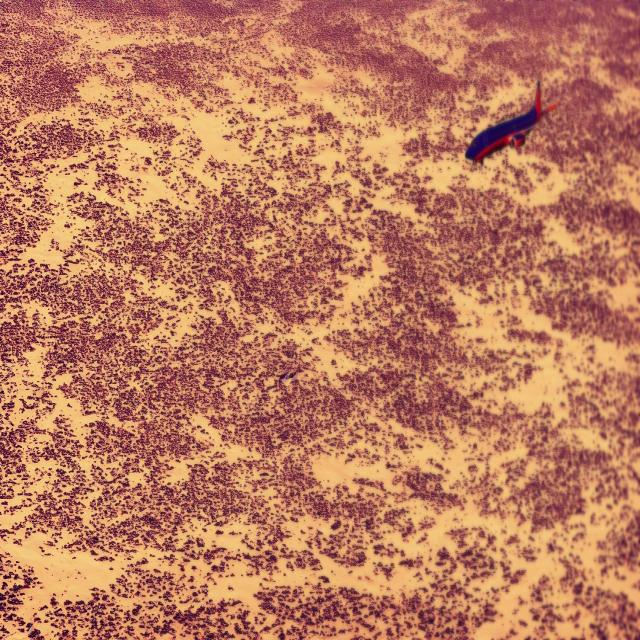airplane: (464, 79, 557, 164)
